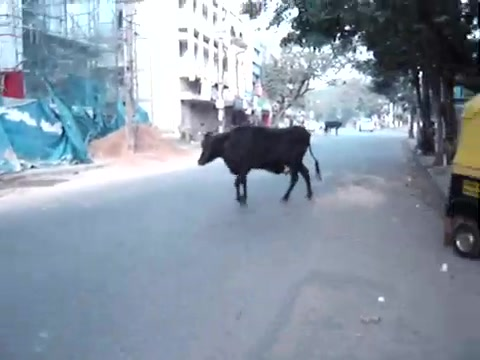cow: (196, 126, 329, 206)
